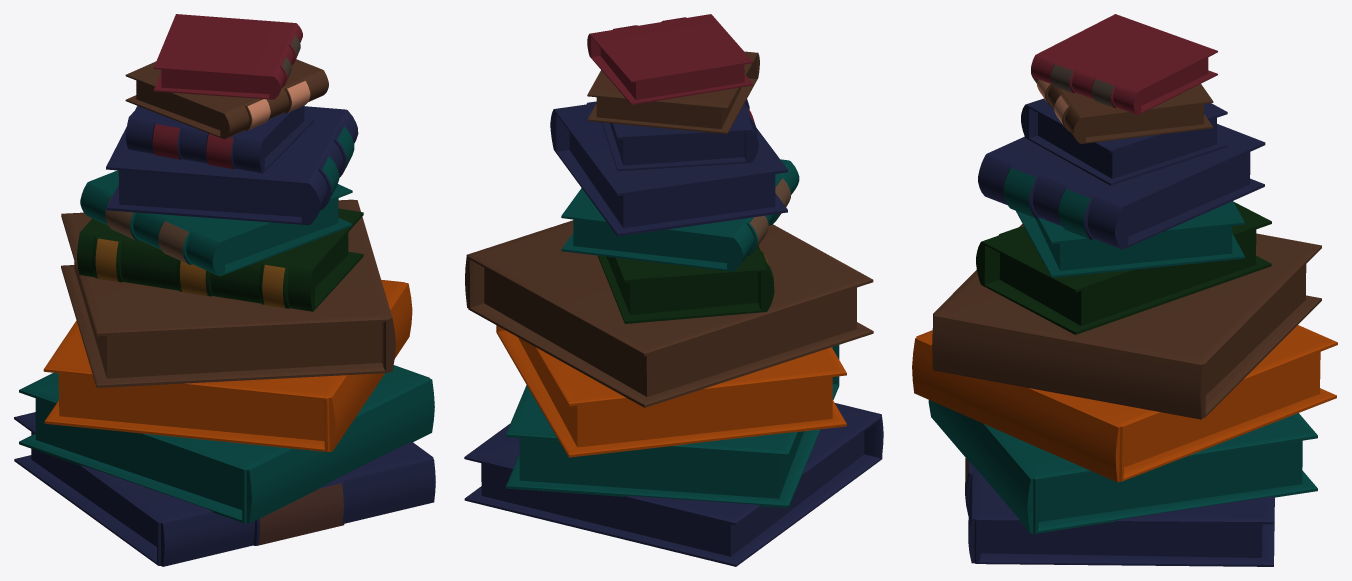
The model's file is Pila Libri 2.fbx.
3 renders of one model, left to right at view 1: azimuth 30°, elevation 25°; view 2: azimuth 150°, elevation 25°; view 3: azimuth 270°, elevation 25°, orthographic. The views are drawn at different scales.
Visible parts, largest first — view 1: Pila 1; view 2: Pila 1; view 3: Pila 1.
Boxes of the visible parts, box(x1,y1,x2,y2) form: Pila 1: box(14, 14, 435, 566); Pila 1: box(464, 14, 883, 566); Pila 1: box(912, 14, 1337, 566).
Bounding box in the file's own units: 81.57 × 94.54 × 81.51.
